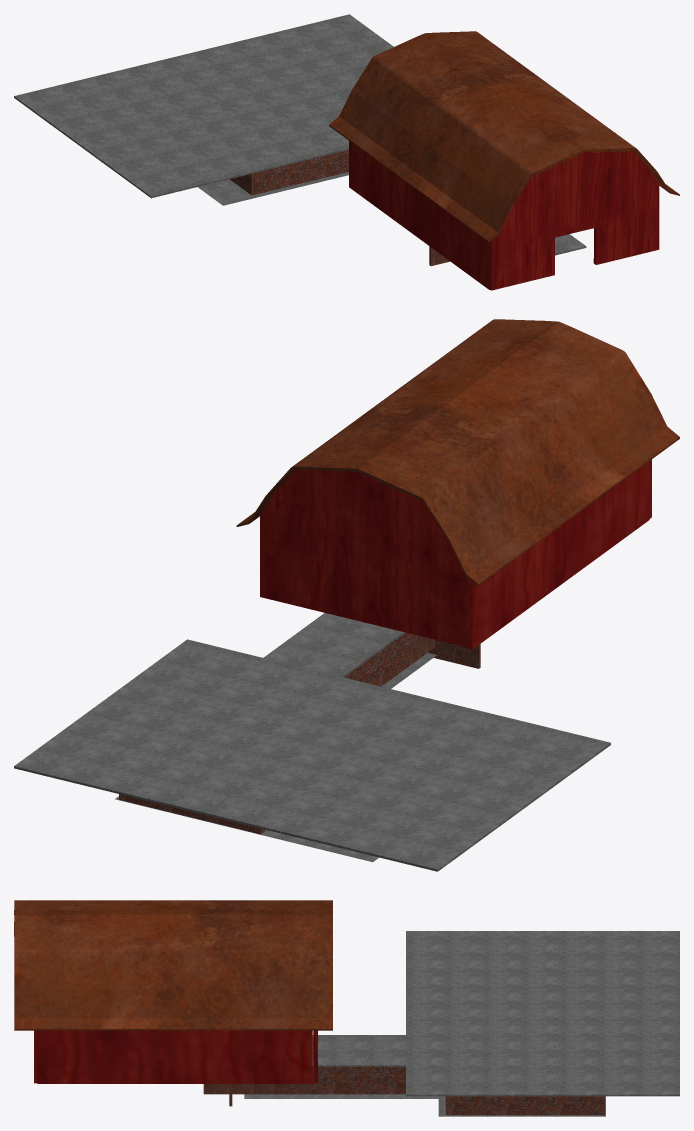
Rendered from Sotano.obj.
3 views of the same model, one above another, from view 1: azimuth 30°, elevation 25°; view 2: azimuth 150°, elevation 25°; view 3: azimuth 270°, elevation 25° (orthographic). The views are drawn at different scales.
Parts seen in each view (by area): view 1: Plane.001, Cube.106_Cube.002, Cube.174_Cube.097, Cube.176_Cube.105, Cube.016_Cube.019, Plane; view 2: Plane.001, Cube.106_Cube.002, Cube.175_Cube.102, Cube.176_Cube.105, Cube.033_Cube.026, Plane, Cube.017_Cube.083, Cube.038_Cube.039; view 3: Plane.001, Cube.106_Cube.002, Cube.177_Cube.111, Cube.036_Cube.037, Cube.032_Cube.018, Plane, Cube.014_Cube.079.
Part boxes in pixels (box(x1,y1,x2,y2)): Plane.001: box(14, 14, 586, 255); Cube.106_Cube.002: box(329, 31, 679, 242); Cube.174_Cube.097: box(489, 151, 659, 290); Cube.176_Cube.105: box(349, 141, 489, 289); Cube.016_Cube.019: box(254, 150, 348, 194); Plane: box(198, 172, 348, 205); Plane.001: box(14, 613, 610, 871); Cube.106_Cube.002: box(236, 319, 679, 585); Cube.175_Cube.102: box(260, 469, 472, 648); Cube.176_Cube.105: box(466, 461, 649, 649); Cube.033_Cube.026: box(344, 632, 409, 686); Plane: box(115, 653, 436, 862); Cube.017_Cube.083: box(428, 640, 480, 668); Cube.038_Cube.039: box(120, 794, 256, 832); Plane.001: box(312, 931, 679, 1096); Cube.106_Cube.002: box(14, 900, 332, 1030); Cube.177_Cube.111: box(37, 1030, 312, 1083); Cube.036_Cube.037: box(446, 1096, 604, 1115); Cube.032_Cube.018: box(270, 1067, 405, 1094); Plane: box(244, 1094, 605, 1116); Cube.014_Cube.079: box(203, 1084, 274, 1094).
Bounding box in the file's own units: 48.92 × 25.63 × 84.16.
13 materials, 12 textured.
